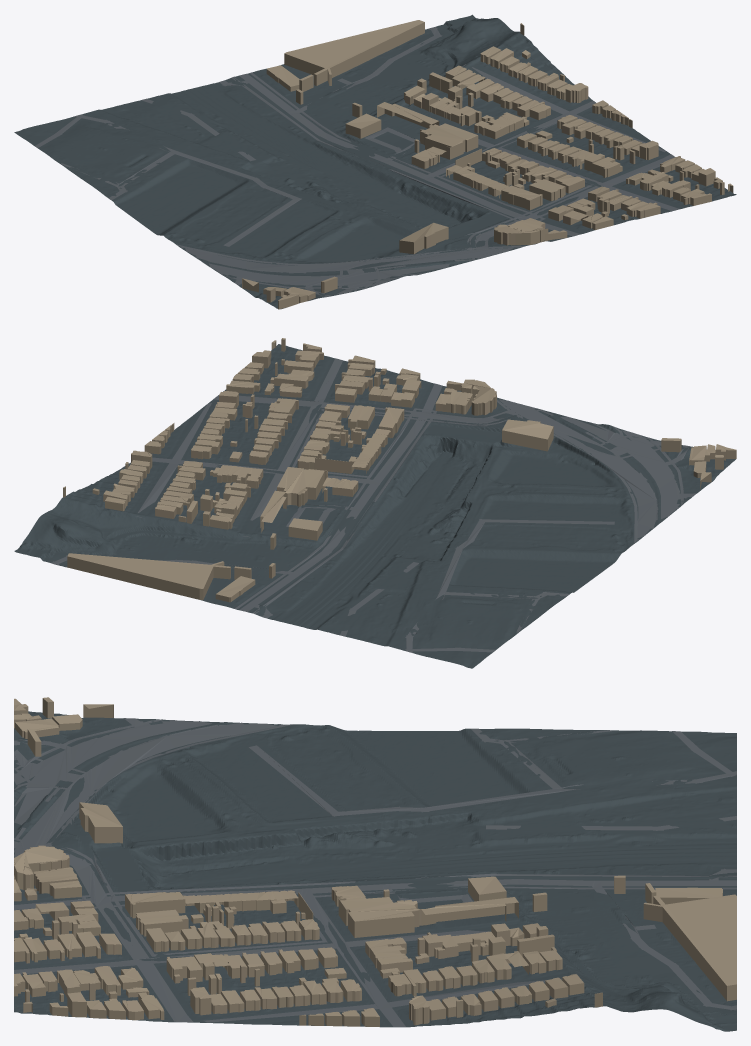
Rendered from epsg26910-1439-10869.lod0.glb.
The picture shows the model from 3 angles, top to bottom: view 1: azimuth 30°, elevation 25°; view 2: azimuth 150°, elevation 25°; view 3: azimuth 270°, elevation 25°; orthographic projection. The views are drawn at different scales.
Parts seen in each view (by area): view 1: epsg26910-1439-10869-lod0; view 2: epsg26910-1439-10869-lod0; view 3: epsg26910-1439-10869-lod0.
Boxes of the visible parts, x1=… form: epsg26910-1439-10869-lod0: x1=14, y1=14, x2=736, y2=309; epsg26910-1439-10869-lod0: x1=14, y1=338, x2=736, y2=668; epsg26910-1439-10869-lod0: x1=14, y1=697, x2=736, y2=1031.
Bounding box in the file's own units: 384 × 27.2 × 384.
